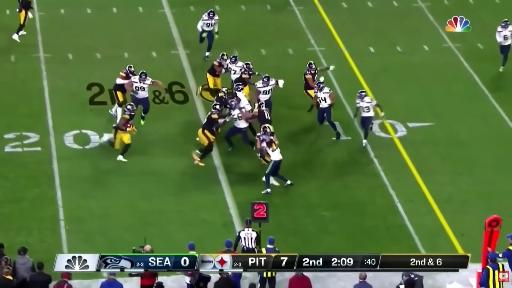Helmet: (126, 65, 136, 76), (126, 102, 136, 113), (263, 123, 272, 135), (228, 100, 238, 110), (229, 54, 238, 65), (316, 81, 325, 91), (502, 19, 511, 29), (219, 52, 228, 62), (262, 75, 270, 86), (139, 71, 147, 82), (212, 103, 221, 112), (307, 62, 316, 71), (207, 10, 215, 19), (358, 90, 367, 98), (234, 83, 243, 91), (260, 134, 270, 141), (223, 88, 230, 95)
Jersey: (255, 79, 277, 101), (131, 76, 153, 98), (357, 96, 376, 116), (202, 112, 219, 134), (265, 138, 282, 160), (198, 13, 218, 31), (231, 109, 249, 128), (207, 60, 226, 77), (316, 87, 331, 107), (236, 92, 251, 111), (304, 69, 317, 90), (496, 27, 511, 45), (228, 62, 243, 80), (117, 114, 131, 131), (258, 109, 271, 125), (234, 74, 251, 86), (19, 0, 32, 11), (113, 83, 126, 93)
Player: (260, 127, 293, 194), (193, 103, 227, 166), (126, 71, 164, 124), (102, 104, 136, 161), (354, 90, 384, 146), (314, 81, 340, 139), (304, 62, 334, 111), (110, 65, 136, 121), (225, 100, 254, 150), (198, 53, 227, 96), (253, 75, 284, 113), (198, 10, 218, 59), (12, 0, 33, 42), (256, 125, 278, 164), (496, 20, 511, 71), (234, 62, 254, 99), (227, 55, 243, 88), (253, 102, 271, 129), (234, 83, 251, 111), (234, 83, 251, 110), (215, 90, 227, 111), (124, 103, 136, 120)
